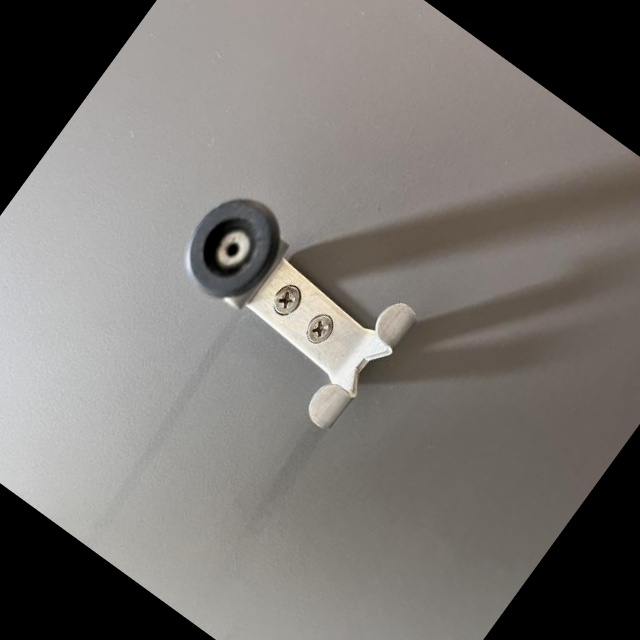phillips: (267, 279, 307, 321), (301, 308, 339, 349)
